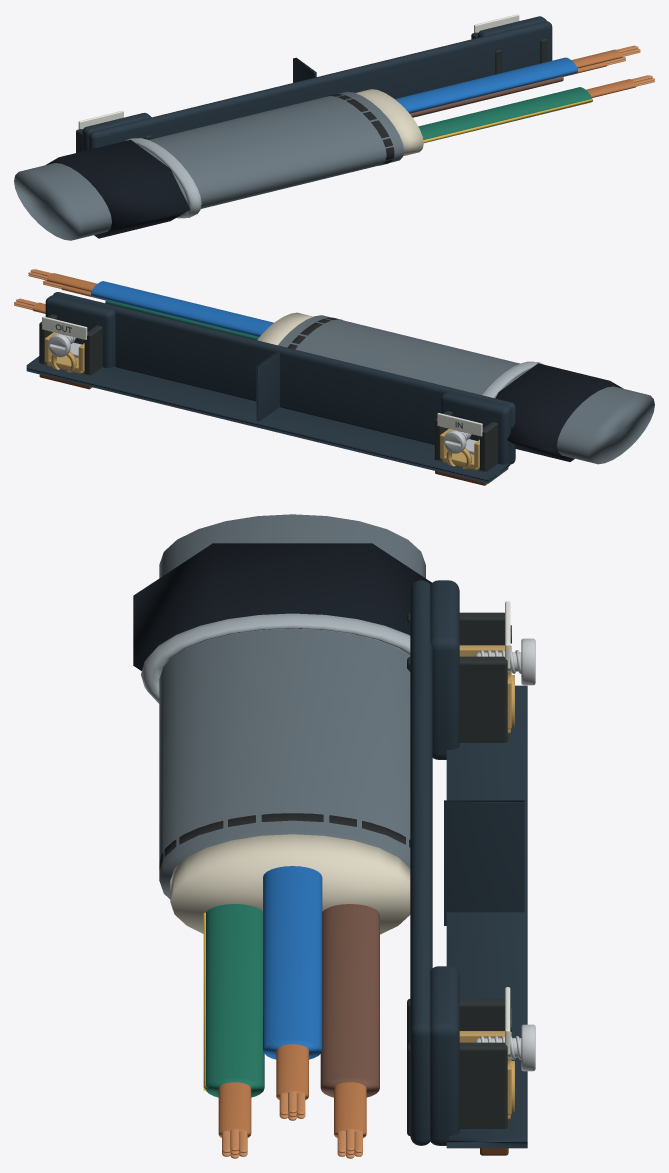
Rendered from cable_three-core.glb.
The picture shows the model from 3 angles, top to bottom: view 1: azimuth 30°, elevation 25°; view 2: azimuth 150°, elevation 25°; view 3: azimuth 270°, elevation 25°; orthographic projection. The views are drawn at different scales.
Parts seen in each view (by area): view 1: part:body, part:terminals · Original a463fd81, part:mounting, part:sheath, part:sheath · Original db0da9ae, Cutaway cable outer sheath, detail:stranded-copper-cores · Detail oxygen-free copper, detail:terminal-clamp:OUT · Detail moulded engineering polym, Moulded terminal legend pad.001, Moulded terminal legend pad; view 2: part:terminals · Original a463fd81, part:body, part:mounting, part:sheath, detail:terminal-clamp:OUT · Detail moulded engineering polym, detail:terminal-clamp:IN · Detail moulded engineering polyme, detail:terminal-clamp:OUT · Detail machined brass, part:sheath · Original db0da9ae, detail:terminal-clamp:IN · Detail machined brass, Moulded terminal legend pad, Moulded terminal legend pad.001, detail:terminal-clamp:IN · Detail zinc plated fixing (+3 smaller); view 3: part:body, part:terminals · Original a463fd81, part:sheath, part:mounting, detail:terminal-clamp:OUT · Detail moulded engineering polym, detail:terminal-clamp:IN · Detail moulded engineering polyme, part:sheath · Original db0da9ae, detail:stranded-copper-cores · Detail oxygen-free copper, Cutaway cable outer sheath, detail:terminal-clamp:IN · Detail zinc plated fixing, detail:terminal-clamp:OUT · Detail zinc plated fixing.
Boxes of the visible parts, box(x1,y1,x2,y2) form: part:body: box(14, 89, 423, 240); part:terminals · Original a463fd81: box(82, 16, 552, 151); part:mounting: box(46, 138, 201, 238); part:sheath: box(395, 57, 592, 142); part:sheath · Original db0da9ae: box(563, 49, 640, 97); Cutaway cable outer sheath: box(326, 94, 394, 165); detail:stranded-copper-cores · Detail oxygen-free copper: box(606, 45, 654, 86); detail:terminal-clamp:OUT · Detail moulded engineering polym: box(471, 32, 546, 74); Moulded terminal legend pad.001: box(474, 14, 519, 32); Moulded terminal legend pad: box(78, 110, 123, 129); part:terminals · Original a463fd81: box(26, 292, 515, 483); part:body: box(257, 312, 654, 464); part:mounting: box(481, 361, 623, 461); part:sheath: box(91, 281, 273, 340); detail:terminal-clamp:OUT · Detail moulded engineering polym: box(39, 314, 102, 375); detail:terminal-clamp:IN · Detail moulded engineering polyme: box(434, 411, 497, 472); detail:terminal-clamp:OUT · Detail machined brass: box(44, 332, 84, 373); part:sheath · Original db0da9ae: box(28, 273, 105, 313); detail:terminal-clamp:IN · Detail machined brass: box(440, 428, 479, 470); Moulded terminal legend pad: box(437, 413, 482, 436); Moulded terminal legend pad.001: box(42, 316, 87, 339); detail:terminal-clamp:IN · Detail zinc plated fixing: box(443, 430, 477, 454); part:body: box(159, 514, 425, 934); part:terminals · Original a463fd81: box(410, 580, 527, 1148); part:sheath: box(203, 866, 379, 1097); part:mounting: box(133, 543, 431, 703); detail:terminal-clamp:OUT · Detail moulded engineering polym: box(407, 998, 509, 1135); detail:terminal-clamp:IN · Detail moulded engineering polyme: box(407, 612, 509, 742); part:sheath · Original db0da9ae: box(218, 1044, 366, 1137); detail:stranded-copper-cores · Detail oxygen-free copper: box(222, 1091, 362, 1158); Cutaway cable outer sheath: box(159, 813, 410, 870); detail:terminal-clamp:IN · Detail zinc plated fixing: box(475, 638, 535, 685); detail:terminal-clamp:OUT · Detail zinc plated fixing: box(475, 1024, 535, 1071).
Bounding box in the file's own units: 1.52 × 0.168 × 0.4473.
